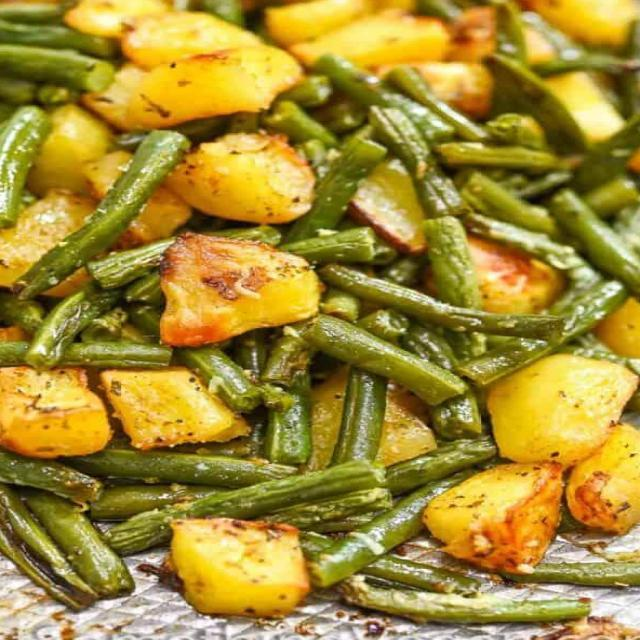Beans: (0, 0, 640, 633)
